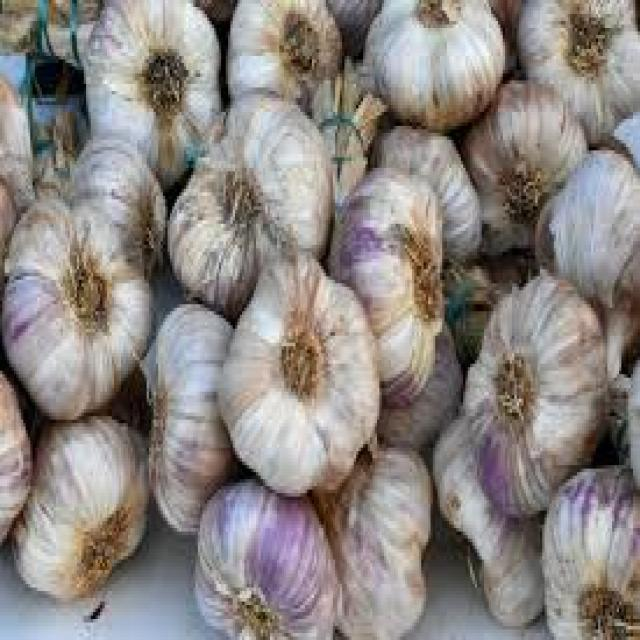Garlic: (458, 258, 640, 532), (223, 273, 419, 489), (334, 169, 474, 403), (7, 190, 153, 400), (181, 468, 356, 640), (166, 98, 323, 280), (10, 412, 152, 596), (457, 89, 612, 241), (78, 9, 190, 161), (544, 461, 640, 636), (363, 4, 502, 124), (219, 0, 343, 134)
